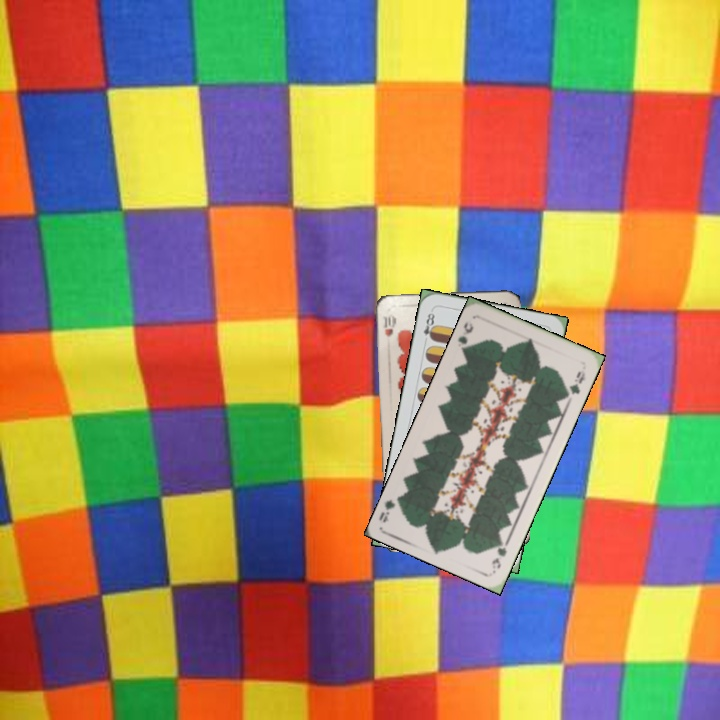E8: (419, 306, 438, 346)
G9: (454, 317, 476, 355), (488, 536, 509, 571)
H10: (379, 310, 398, 339)
